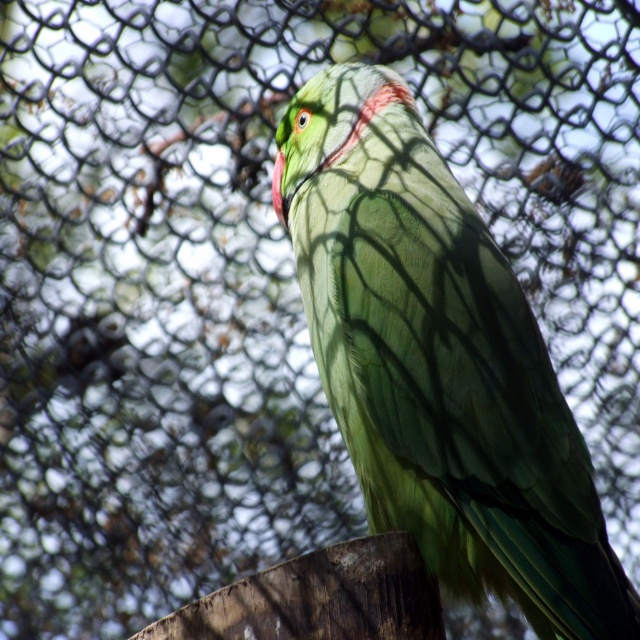Parrot: (271, 59, 640, 639)
